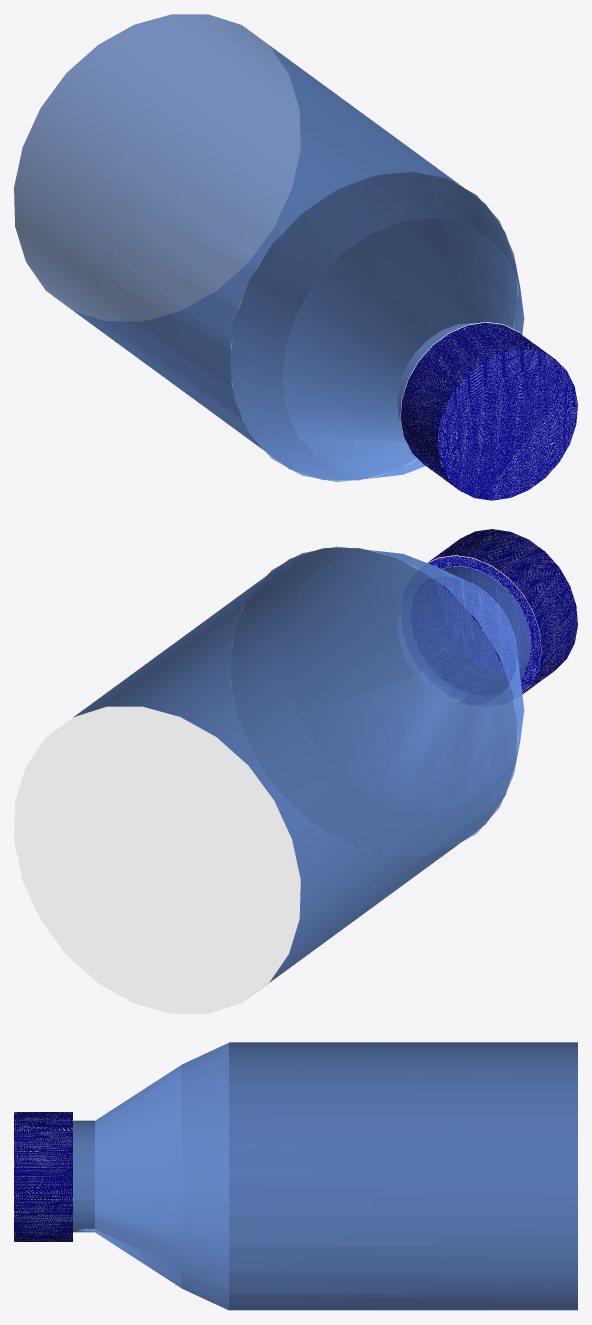
The model's file is model_scale.obj.
The picture shows the model from 3 angles, top to bottom: view 1: azimuth 30°, elevation 25°; view 2: azimuth 150°, elevation 25°; view 3: azimuth 270°, elevation 25°; orthographic projection. The views are drawn at different scales.
Visible parts, largest first — view 1: mesh1_mesh1-geometry; view 2: mesh1_mesh1-geometry; view 3: mesh1_mesh1-geometry.
Part boxes in pixels (box(x1,y1,x2,y2)): mesh1_mesh1-geometry: box(14, 14, 577, 500); mesh1_mesh1-geometry: box(14, 529, 577, 1013); mesh1_mesh1-geometry: box(14, 1042, 577, 1310).
Bounding box in the file's own units: 0.1207 × 0.1207 × 0.2531.
